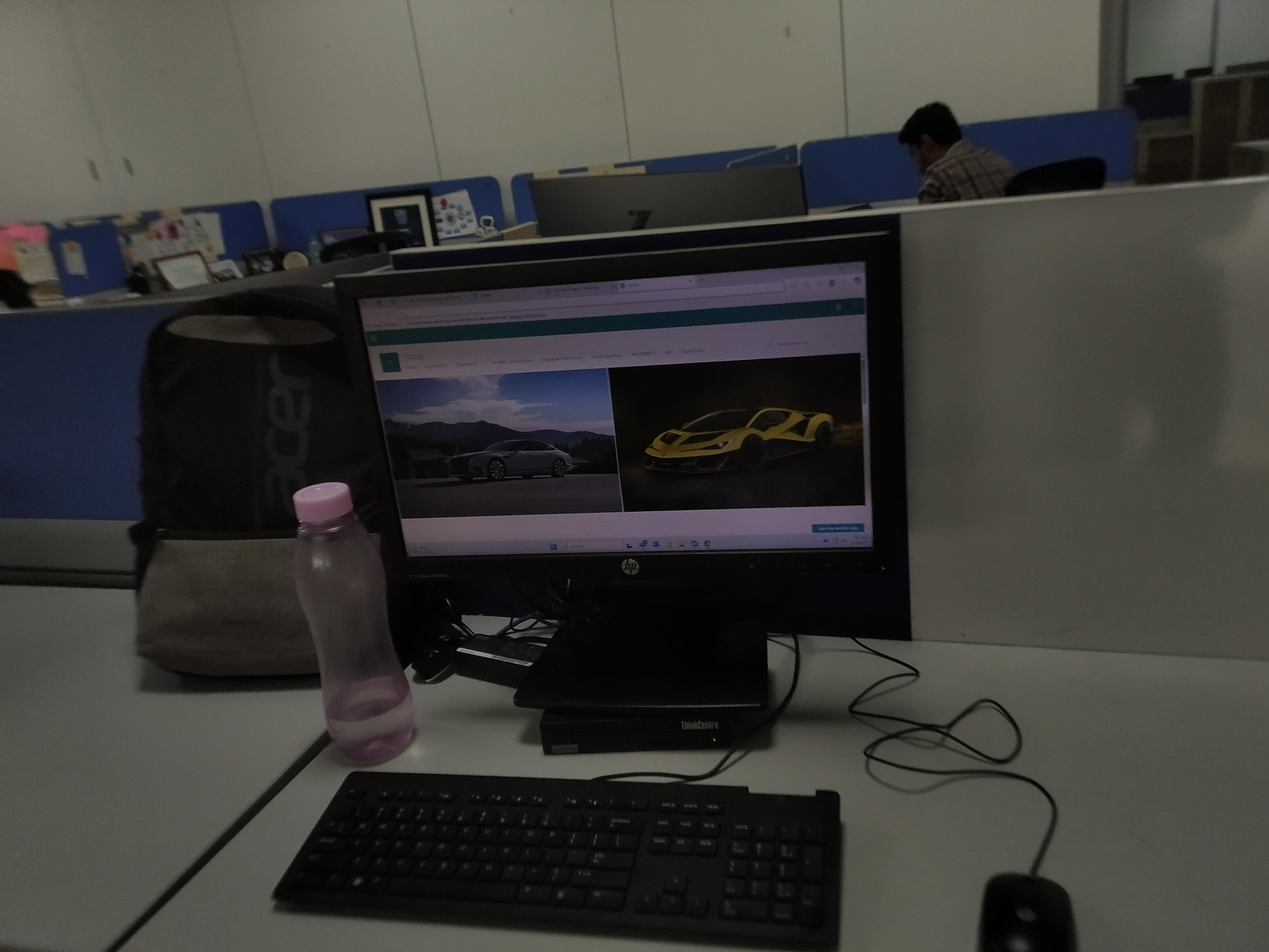bag: (121, 279, 385, 681)
bottle: (276, 468, 426, 764)
desktop: (329, 210, 920, 726)
keyboard: (252, 760, 851, 952)
mouse: (968, 858, 1078, 952)
